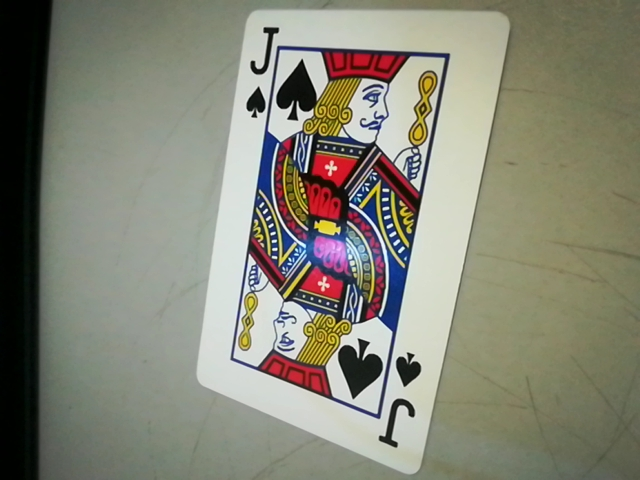ht j: (377, 345, 429, 459)
